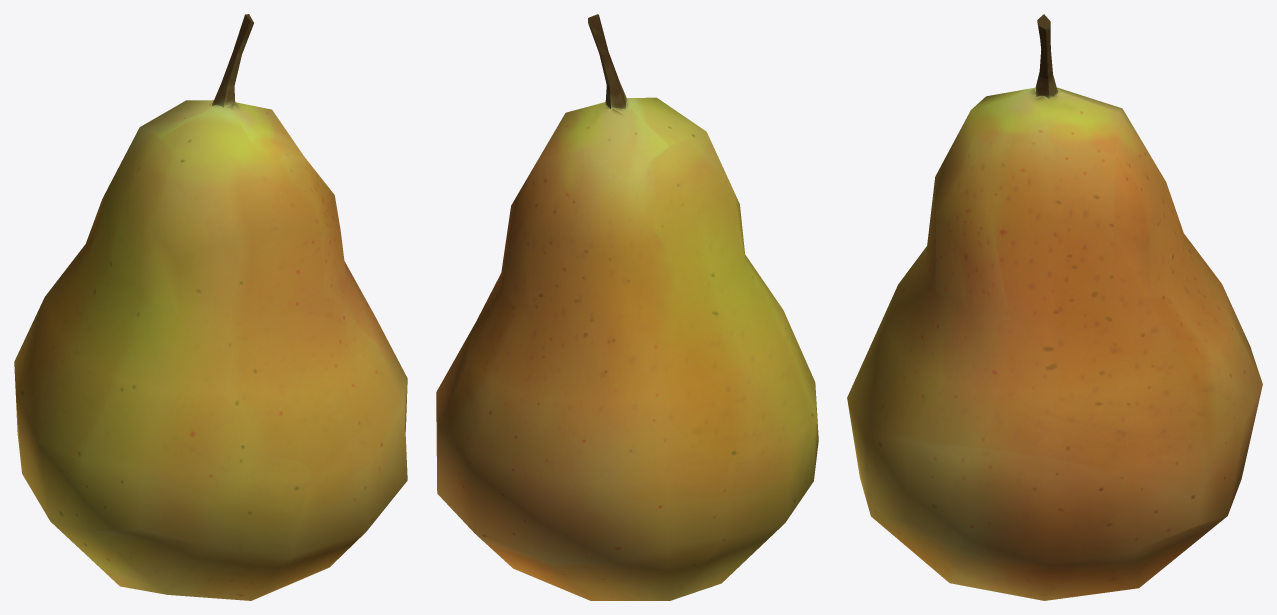
File: pear.fbx
3 renders of one model, left to right at view 1: azimuth 30°, elevation 25°; view 2: azimuth 150°, elevation 25°; view 3: azimuth 270°, elevation 25°, orthographic. The views are drawn at different scales.
Visible parts, largest first — view 1: pear; view 2: pear; view 3: pear.
Boxes of the visible parts, bbox=[...] form: pear: bbox=[14, 14, 407, 600]; pear: bbox=[436, 14, 818, 600]; pear: bbox=[847, 14, 1262, 600].
Size of the model in its own units: 0.2501 by 0.3926 by 0.2549.
